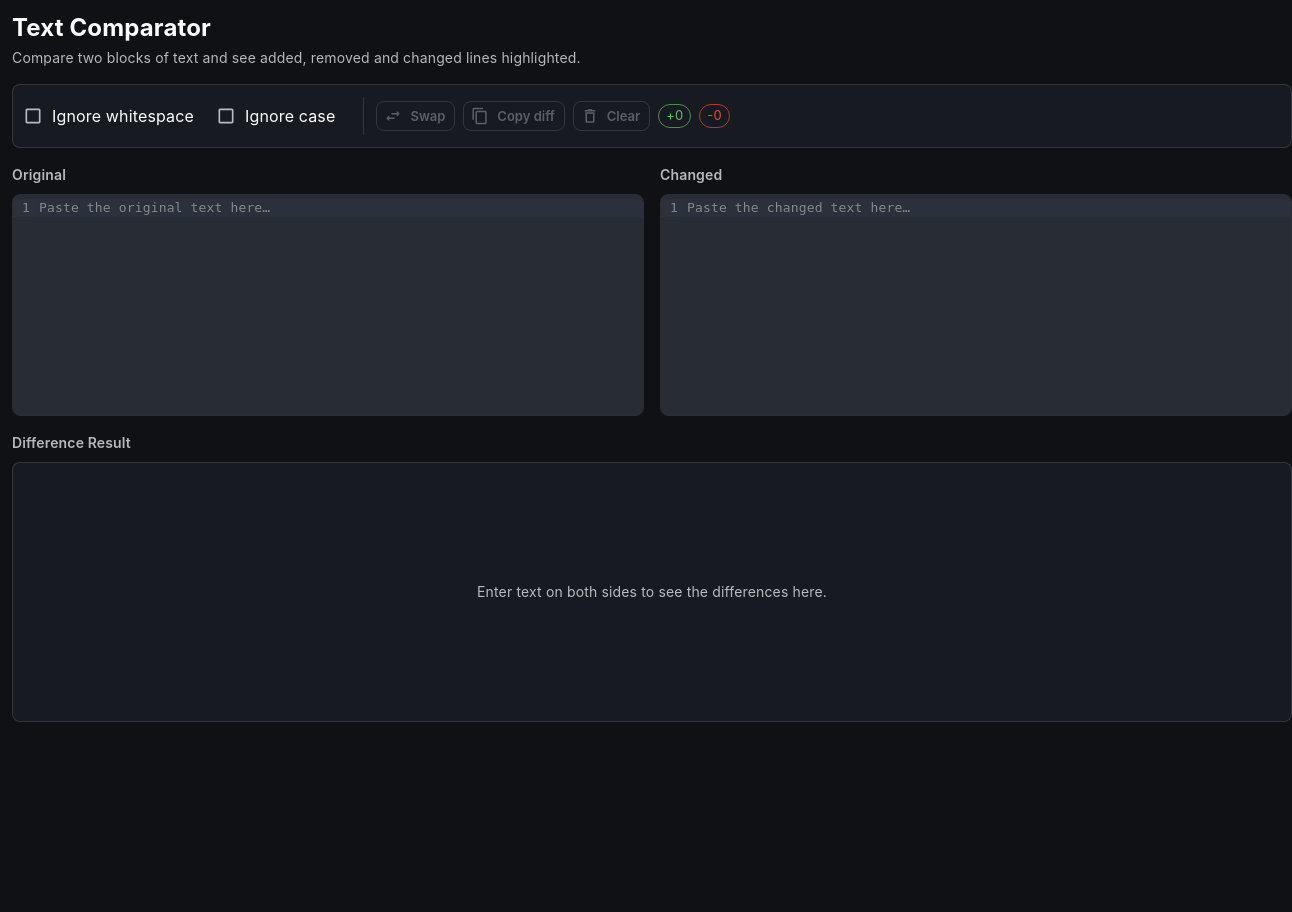
Test case: TextComparatorPage › highlights differences once text is typed into both editors
Click the field labelled "Paste the original text here…" at [338, 208], box [33,195,643,221]
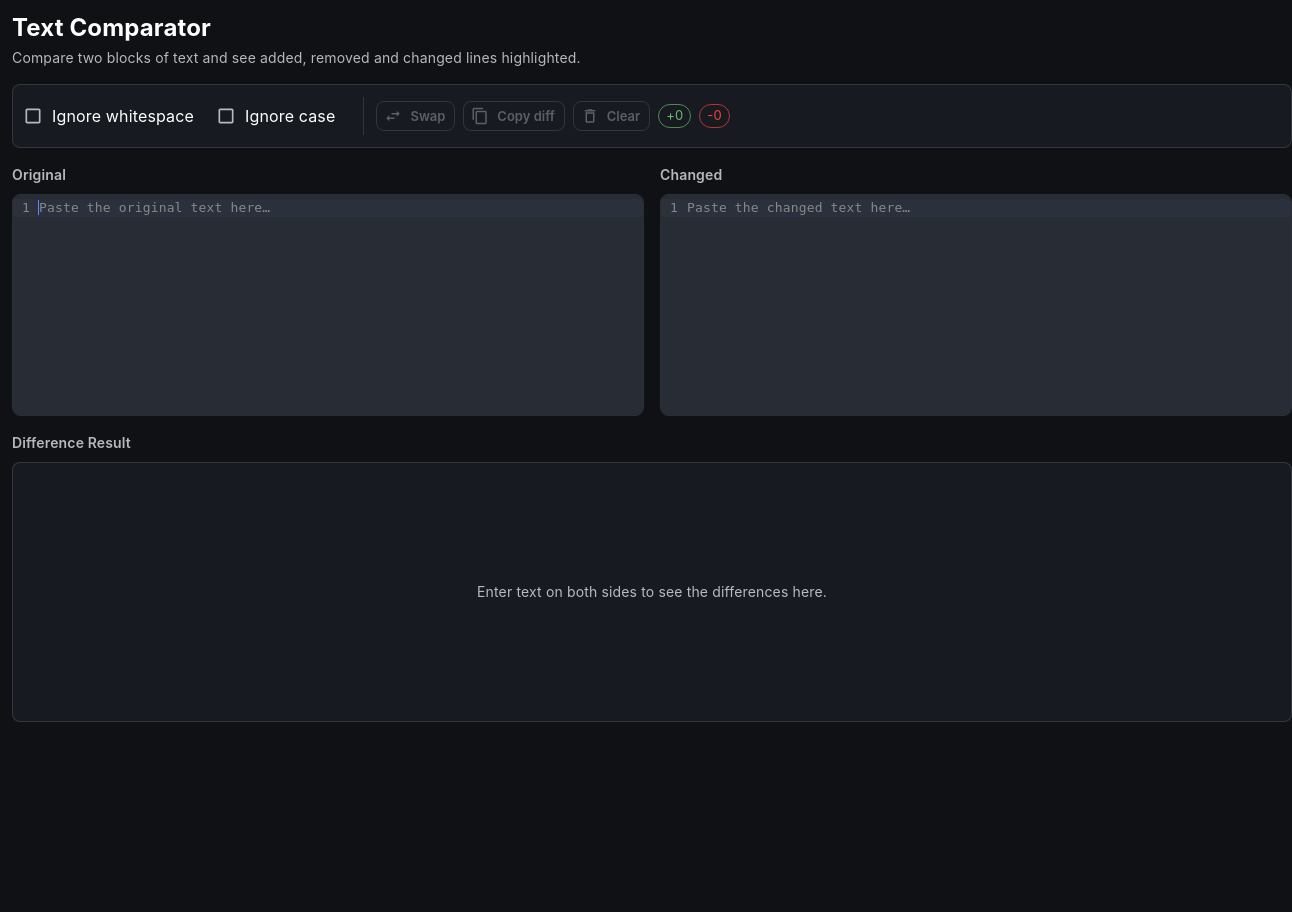
Type "hello" into the field labelled "Paste the original text here…" at [338, 208], box [33,195,643,221]
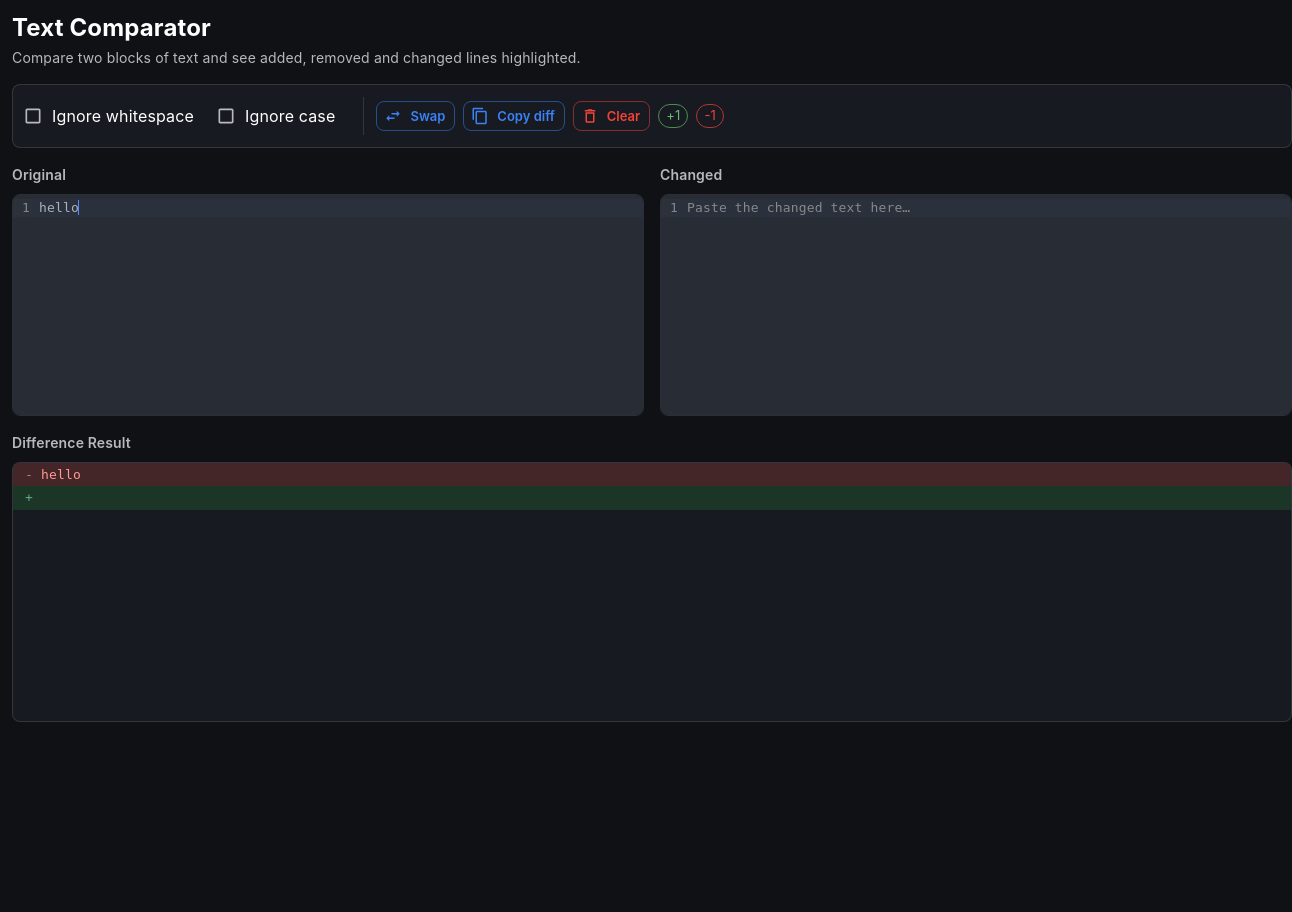
Click the field labelled "Paste the changed text here…" at [986, 208], box [681,195,1291,221]
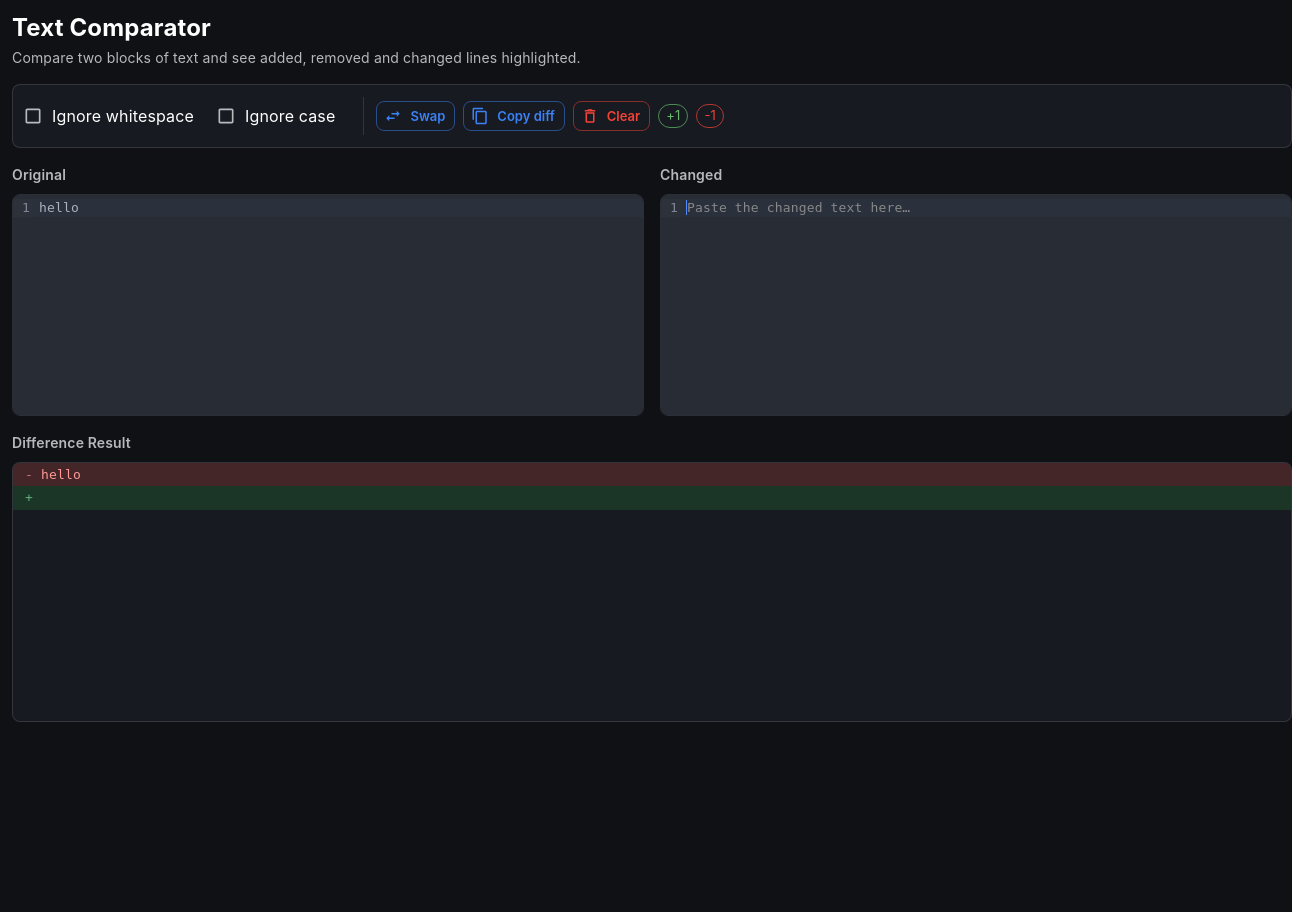
Type "world" into the field labelled "Paste the changed text here…" at [986, 208], box [681,195,1291,221]
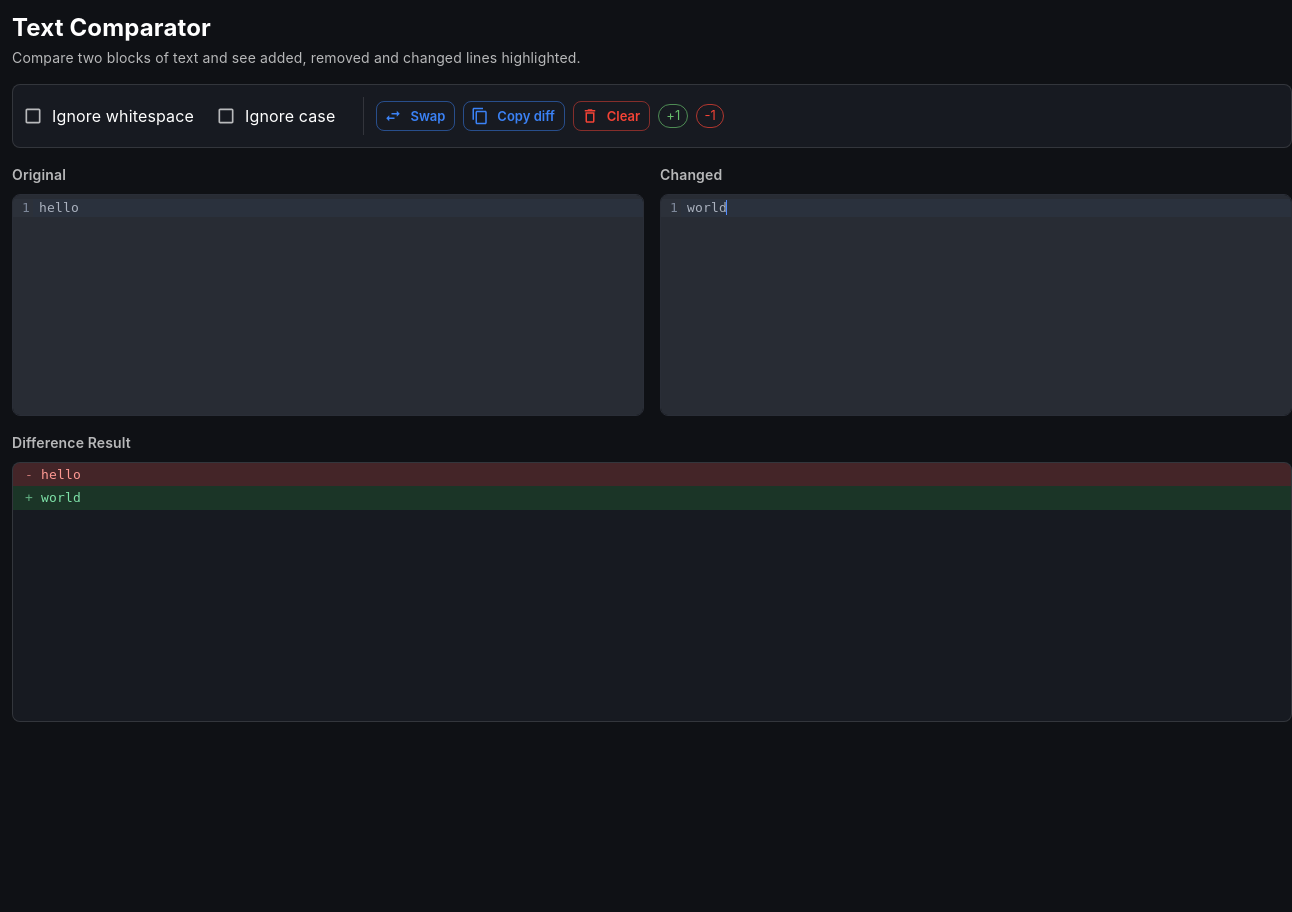
expect the text "hello" is shown: met, box [41,465,81,484]
expect the text "world" is shown: met, box [41,488,81,508]
